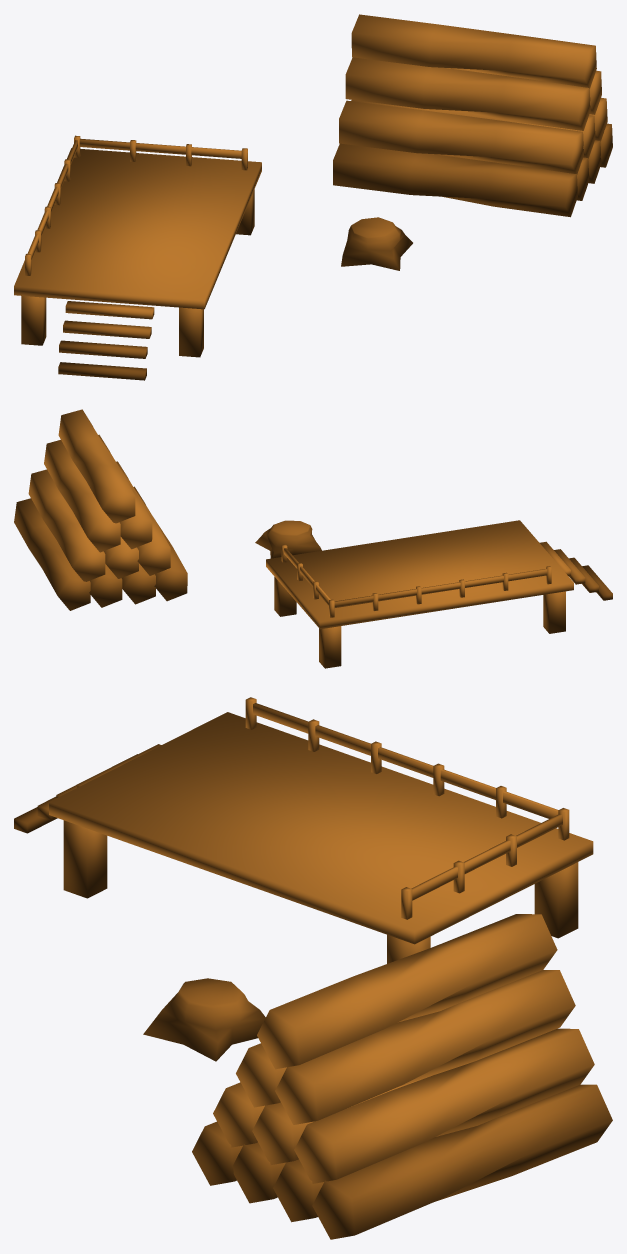
The model's file is woodcutter.obj.
3 renders of one model, top to bottom at view 1: azimuth 30°, elevation 25°; view 2: azimuth 150°, elevation 25°; view 3: azimuth 270°, elevation 25°, orthographic. The views are drawn at different scales.
Parts seen in each view (by area): view 1: Cube_Cube.003; view 2: Cube_Cube.003; view 3: Cube_Cube.003.
Part boxes in pixels (x1,y1,x2,y2): Cube_Cube.003: (14, 14, 612, 380); Cube_Cube.003: (14, 409, 612, 668); Cube_Cube.003: (14, 697, 612, 1239).
Bounding box in the file's own units: 2.63 × 0.5533 × 1.47.
